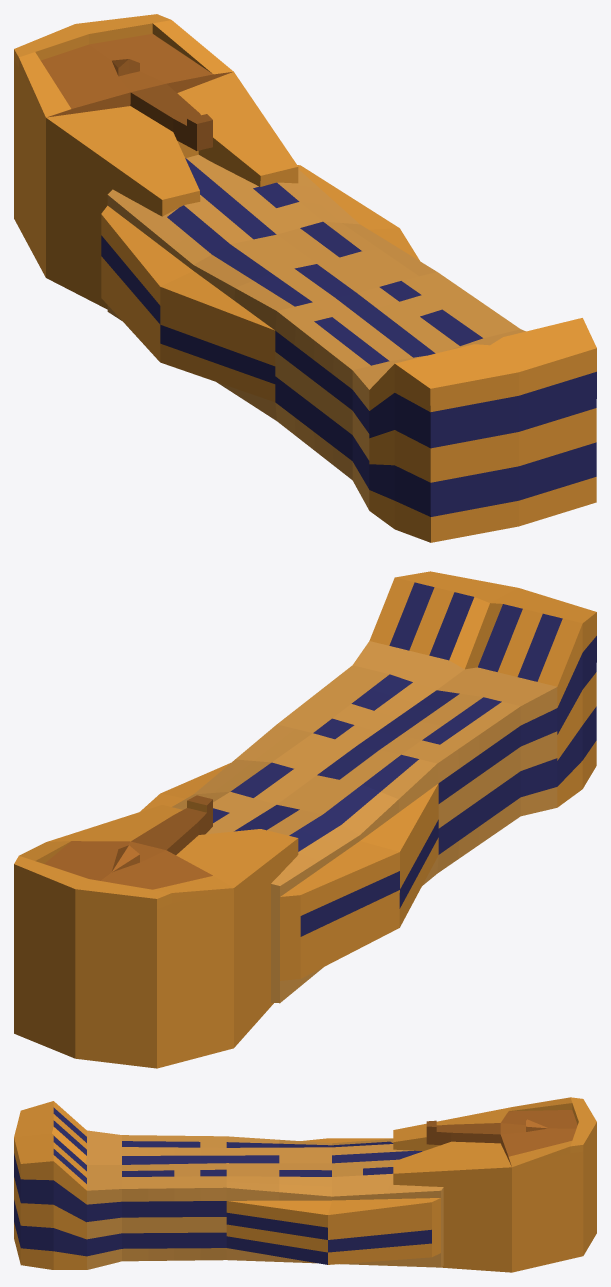
Rendered from Sarcofago.fbx.
3 views of the same model, one above another, from view 1: azimuth 30°, elevation 25°; view 2: azimuth 150°, elevation 25°; view 3: azimuth 270°, elevation 25° (orthographic). The views are drawn at different scales.
Visible parts, largest first — view 1: Cara.001; view 2: Cara.001; view 3: Cara.001.
Part boxes in pixels (left/top/right/bottom): Cara.001: left=14, top=14, right=596, bottom=542; Cara.001: left=14, top=571, right=596, bottom=1068; Cara.001: left=14, top=1097, right=596, bottom=1272.
Size of the model in its own units: 255 by 191 by 818.
